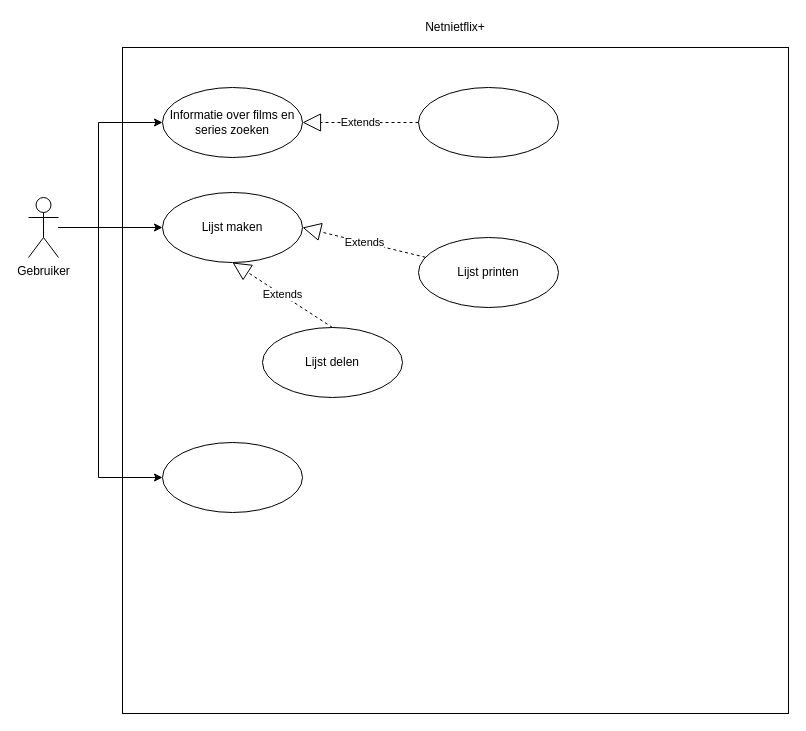
This 806x731 diagram has some shape labels left out. Each missing label, with the centre of its shape:
Een serie of film raten: the point at 232,477
Film of serie toevoegen aan de lijst: the point at 488,122
